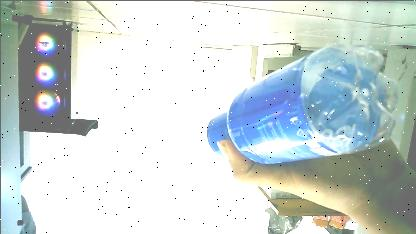Plastic Bottle: (183, 27, 409, 173)
